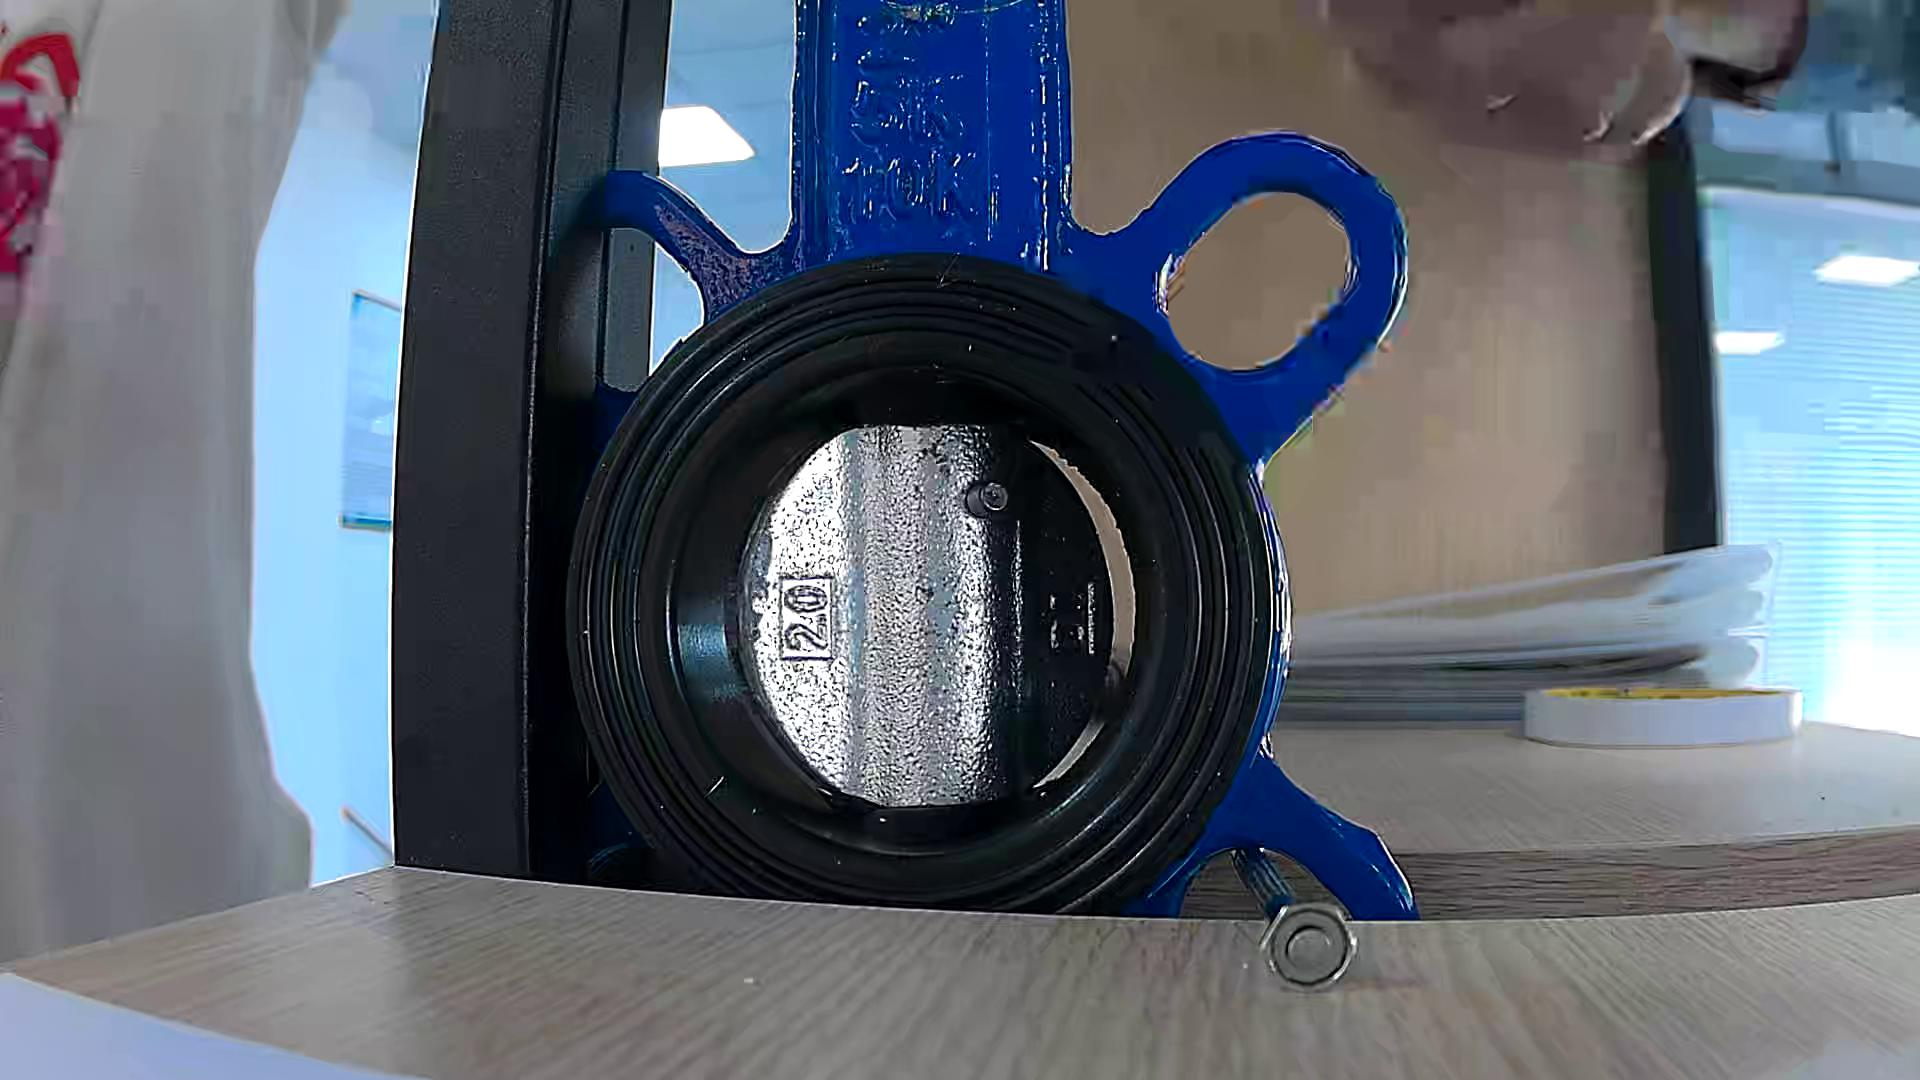valve: (742, 424, 1114, 806)
